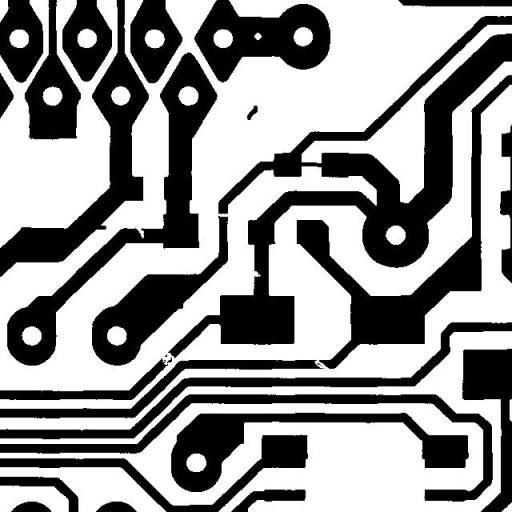copper: (239, 98, 265, 127)
mousebite: (127, 218, 151, 246), (242, 262, 268, 284)
open: (306, 352, 338, 378), (154, 345, 182, 372), (210, 206, 236, 224)
pin-hole: (246, 25, 269, 47)
short: (287, 154, 337, 176)
spur: (82, 216, 114, 237)
